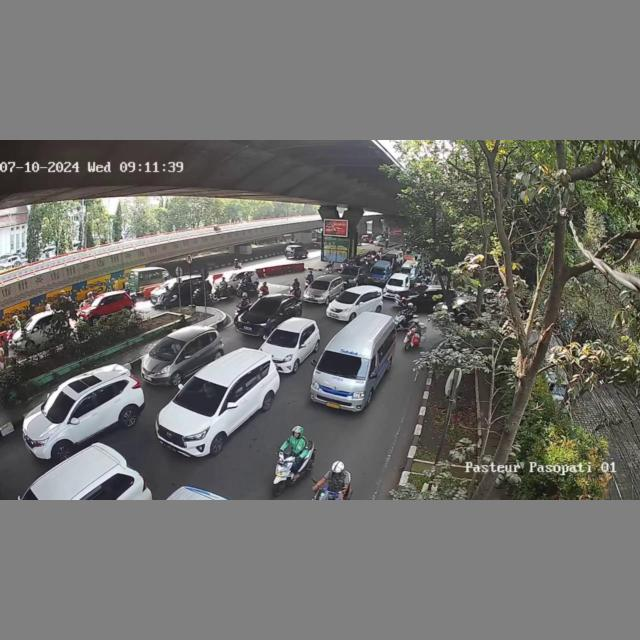windshield: (171, 374, 227, 413), (314, 349, 371, 379), (42, 388, 75, 423), (149, 336, 185, 361), (247, 297, 282, 317), (268, 328, 299, 348), (334, 290, 359, 304), (308, 279, 332, 290)
